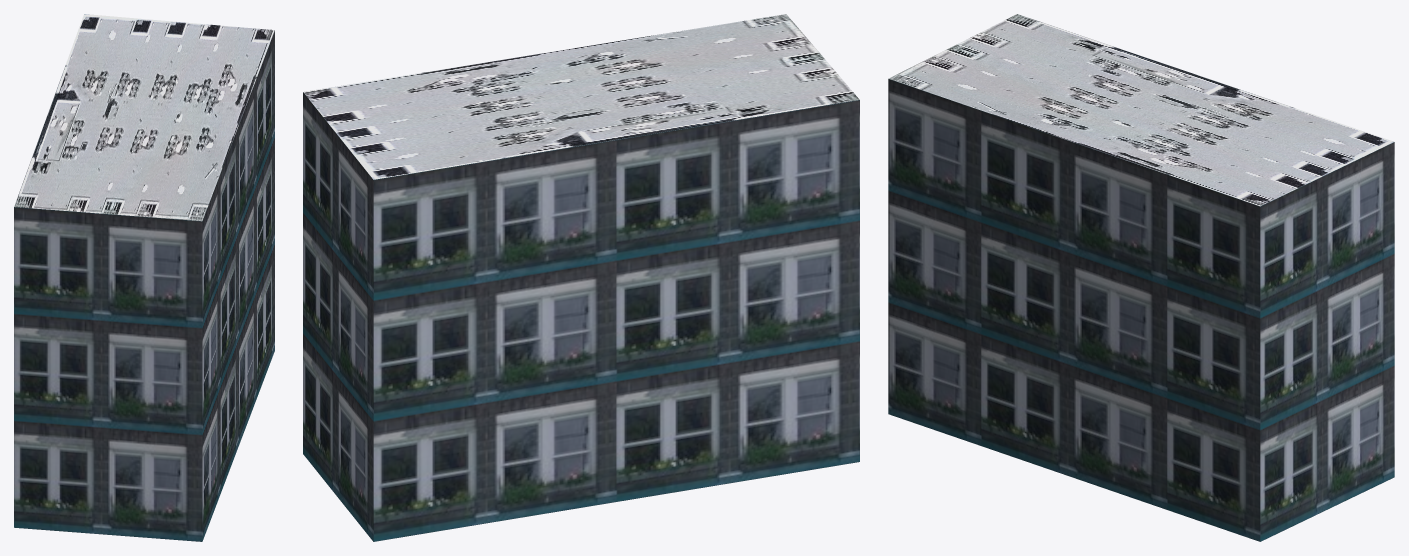
The model's file is ResTex__2339.fbx.
3 views of the same model, side by side, from view 1: azimuth 30°, elevation 25°; view 2: azimuth 150°, elevation 25°; view 3: azimuth 270°, elevation 25° (orthographic). The views are drawn at different scales.
Visible parts, largest first — view 1: CityEngineMaterial_11_m, CityEngineMaterial_8_m; view 2: CityEngineMaterial_11_m, CityEngineMaterial_8_m; view 3: CityEngineMaterial_11_m, CityEngineMaterial_8_m.
Boxes of the visible parts, <box> form: CityEngineMaterial_11_m: <box>14,30,274,541</box>; CityEngineMaterial_8_m: <box>14,14,274,221</box>; CityEngineMaterial_11_m: <box>303,92,859,541</box>; CityEngineMaterial_8_m: <box>303,14,859,179</box>; CityEngineMaterial_11_m: <box>888,79,1394,541</box>; CityEngineMaterial_8_m: <box>888,14,1393,206</box>.
Bounding box in the file's own units: 11.07 × 9 × 12.31.
Materials: 2 (2 with a texture image).
